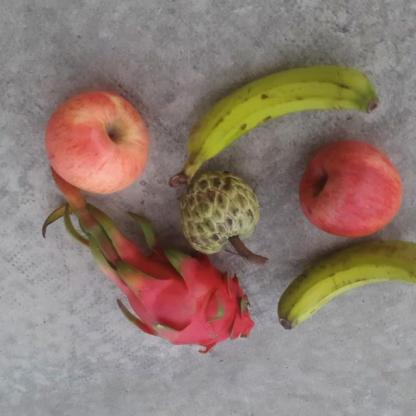annona: (178, 168, 265, 264)
apple: (44, 81, 156, 196), (296, 136, 408, 240)
banana: (170, 57, 386, 189), (278, 239, 416, 332)
pitaya: (106, 243, 266, 355)
